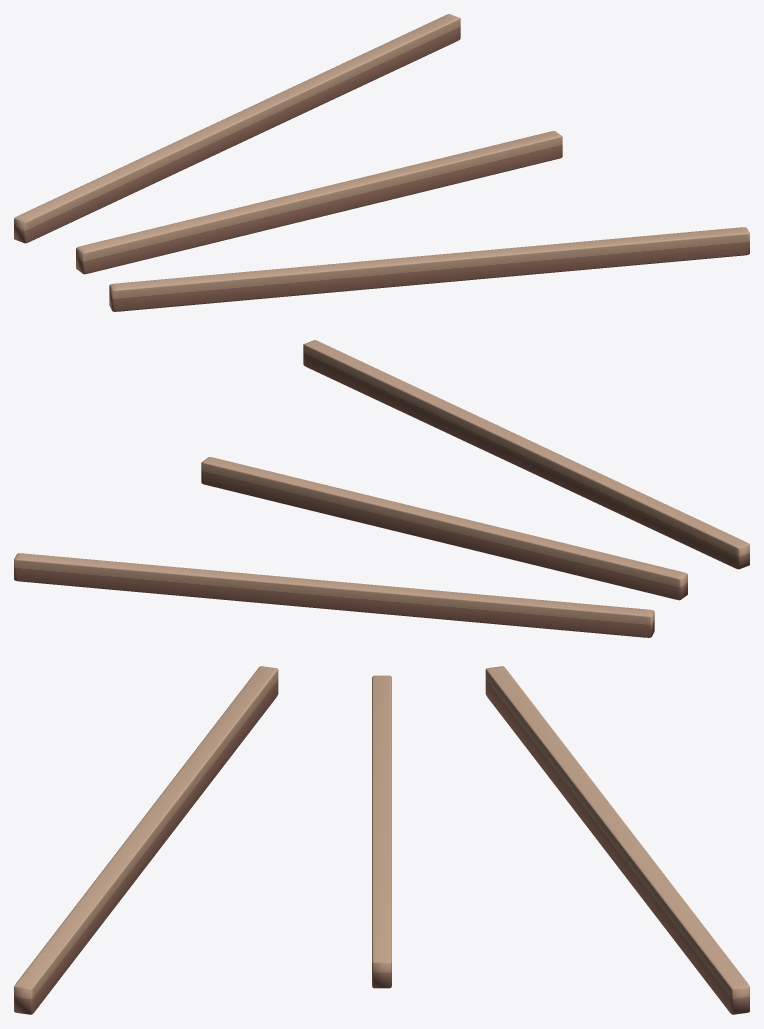
The model's file is Props.fbx.
3 renders of one model, top to bottom at view 1: azimuth 30°, elevation 25°; view 2: azimuth 150°, elevation 25°; view 3: azimuth 270°, elevation 25°, orthographic. The views are drawn at different scales.
Parts seen in each view (by area): view 1: Box20-3_1 (3), Box20-3_1 (2), Box20-3_1 (4); view 2: Box20-3_1 (4), Box20-3_1 (2), Box20-3_1 (3); view 3: Box20-3_1 (3), Box20-3_1 (4), Box20-3_1 (2).
Part boxes in pixels (x1=…): Box20-3_1 (3): x1=109, y1=227, x2=749, y2=311; Box20-3_1 (2): x1=76, y1=131, x2=562, y2=274; Box20-3_1 (4): x1=14, y1=14, x2=460, y2=243; Box20-3_1 (4): x1=14, y1=553, x2=654, y2=637; Box20-3_1 (2): x1=201, y1=457, x2=687, y2=600; Box20-3_1 (3): x1=303, y1=340, x2=749, y2=569; Box20-3_1 (3): x1=14, y1=666, x2=278, y2=1014; Box20-3_1 (4): x1=485, y1=666, x2=749, y2=1014; Box20-3_1 (2): x1=372, y1=675, x2=391, y2=988.
Size of the model in its own units: 38.3 by 1.5 by 36.83.
